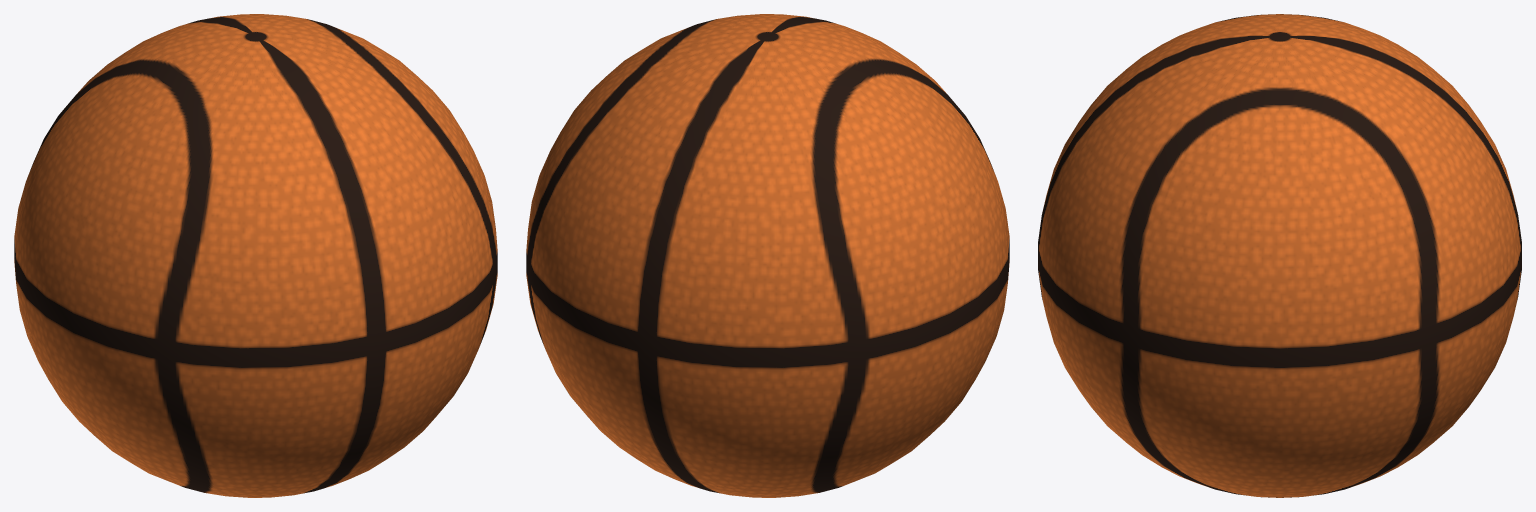
File: basketball.glb
3 views of the same model, side by side, from view 1: azimuth 30°, elevation 25°; view 2: azimuth 150°, elevation 25°; view 3: azimuth 270°, elevation 25° (orthographic).
Parts seen in each view (by area): view 1: Basketball; view 2: Basketball; view 3: Basketball.
Part boxes in pixels (left/top/right/bottom): Basketball: left=14, top=14, right=497, bottom=497; Basketball: left=526, top=14, right=1009, bottom=497; Basketball: left=1038, top=14, right=1521, bottom=497.
Size of the model in its own units: 0.2415 by 0.242 by 0.2415.
1 material, 1 textured.
